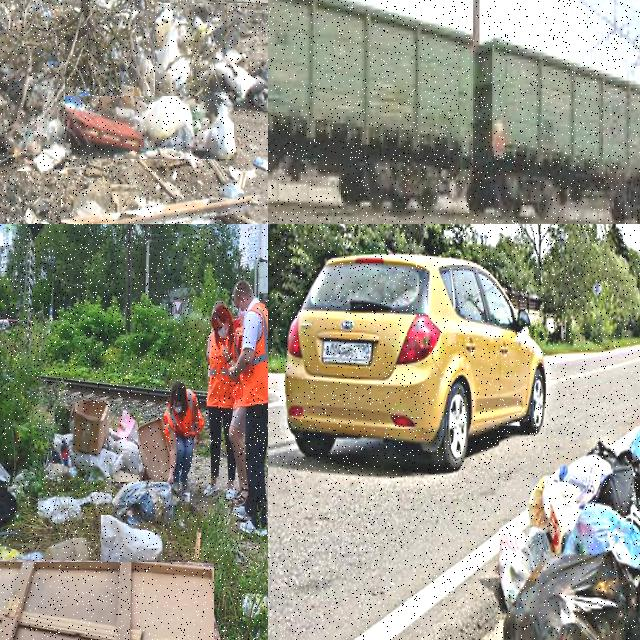lixeira: (499, 426, 639, 639), (0, 562, 216, 639), (155, 3, 267, 113), (65, 96, 236, 160), (0, 46, 67, 173), (52, 402, 139, 483), (61, 189, 267, 223), (102, 515, 164, 565), (115, 482, 183, 524), (38, 493, 114, 525), (0, 539, 90, 562), (140, 422, 170, 485), (0, 462, 16, 528)
